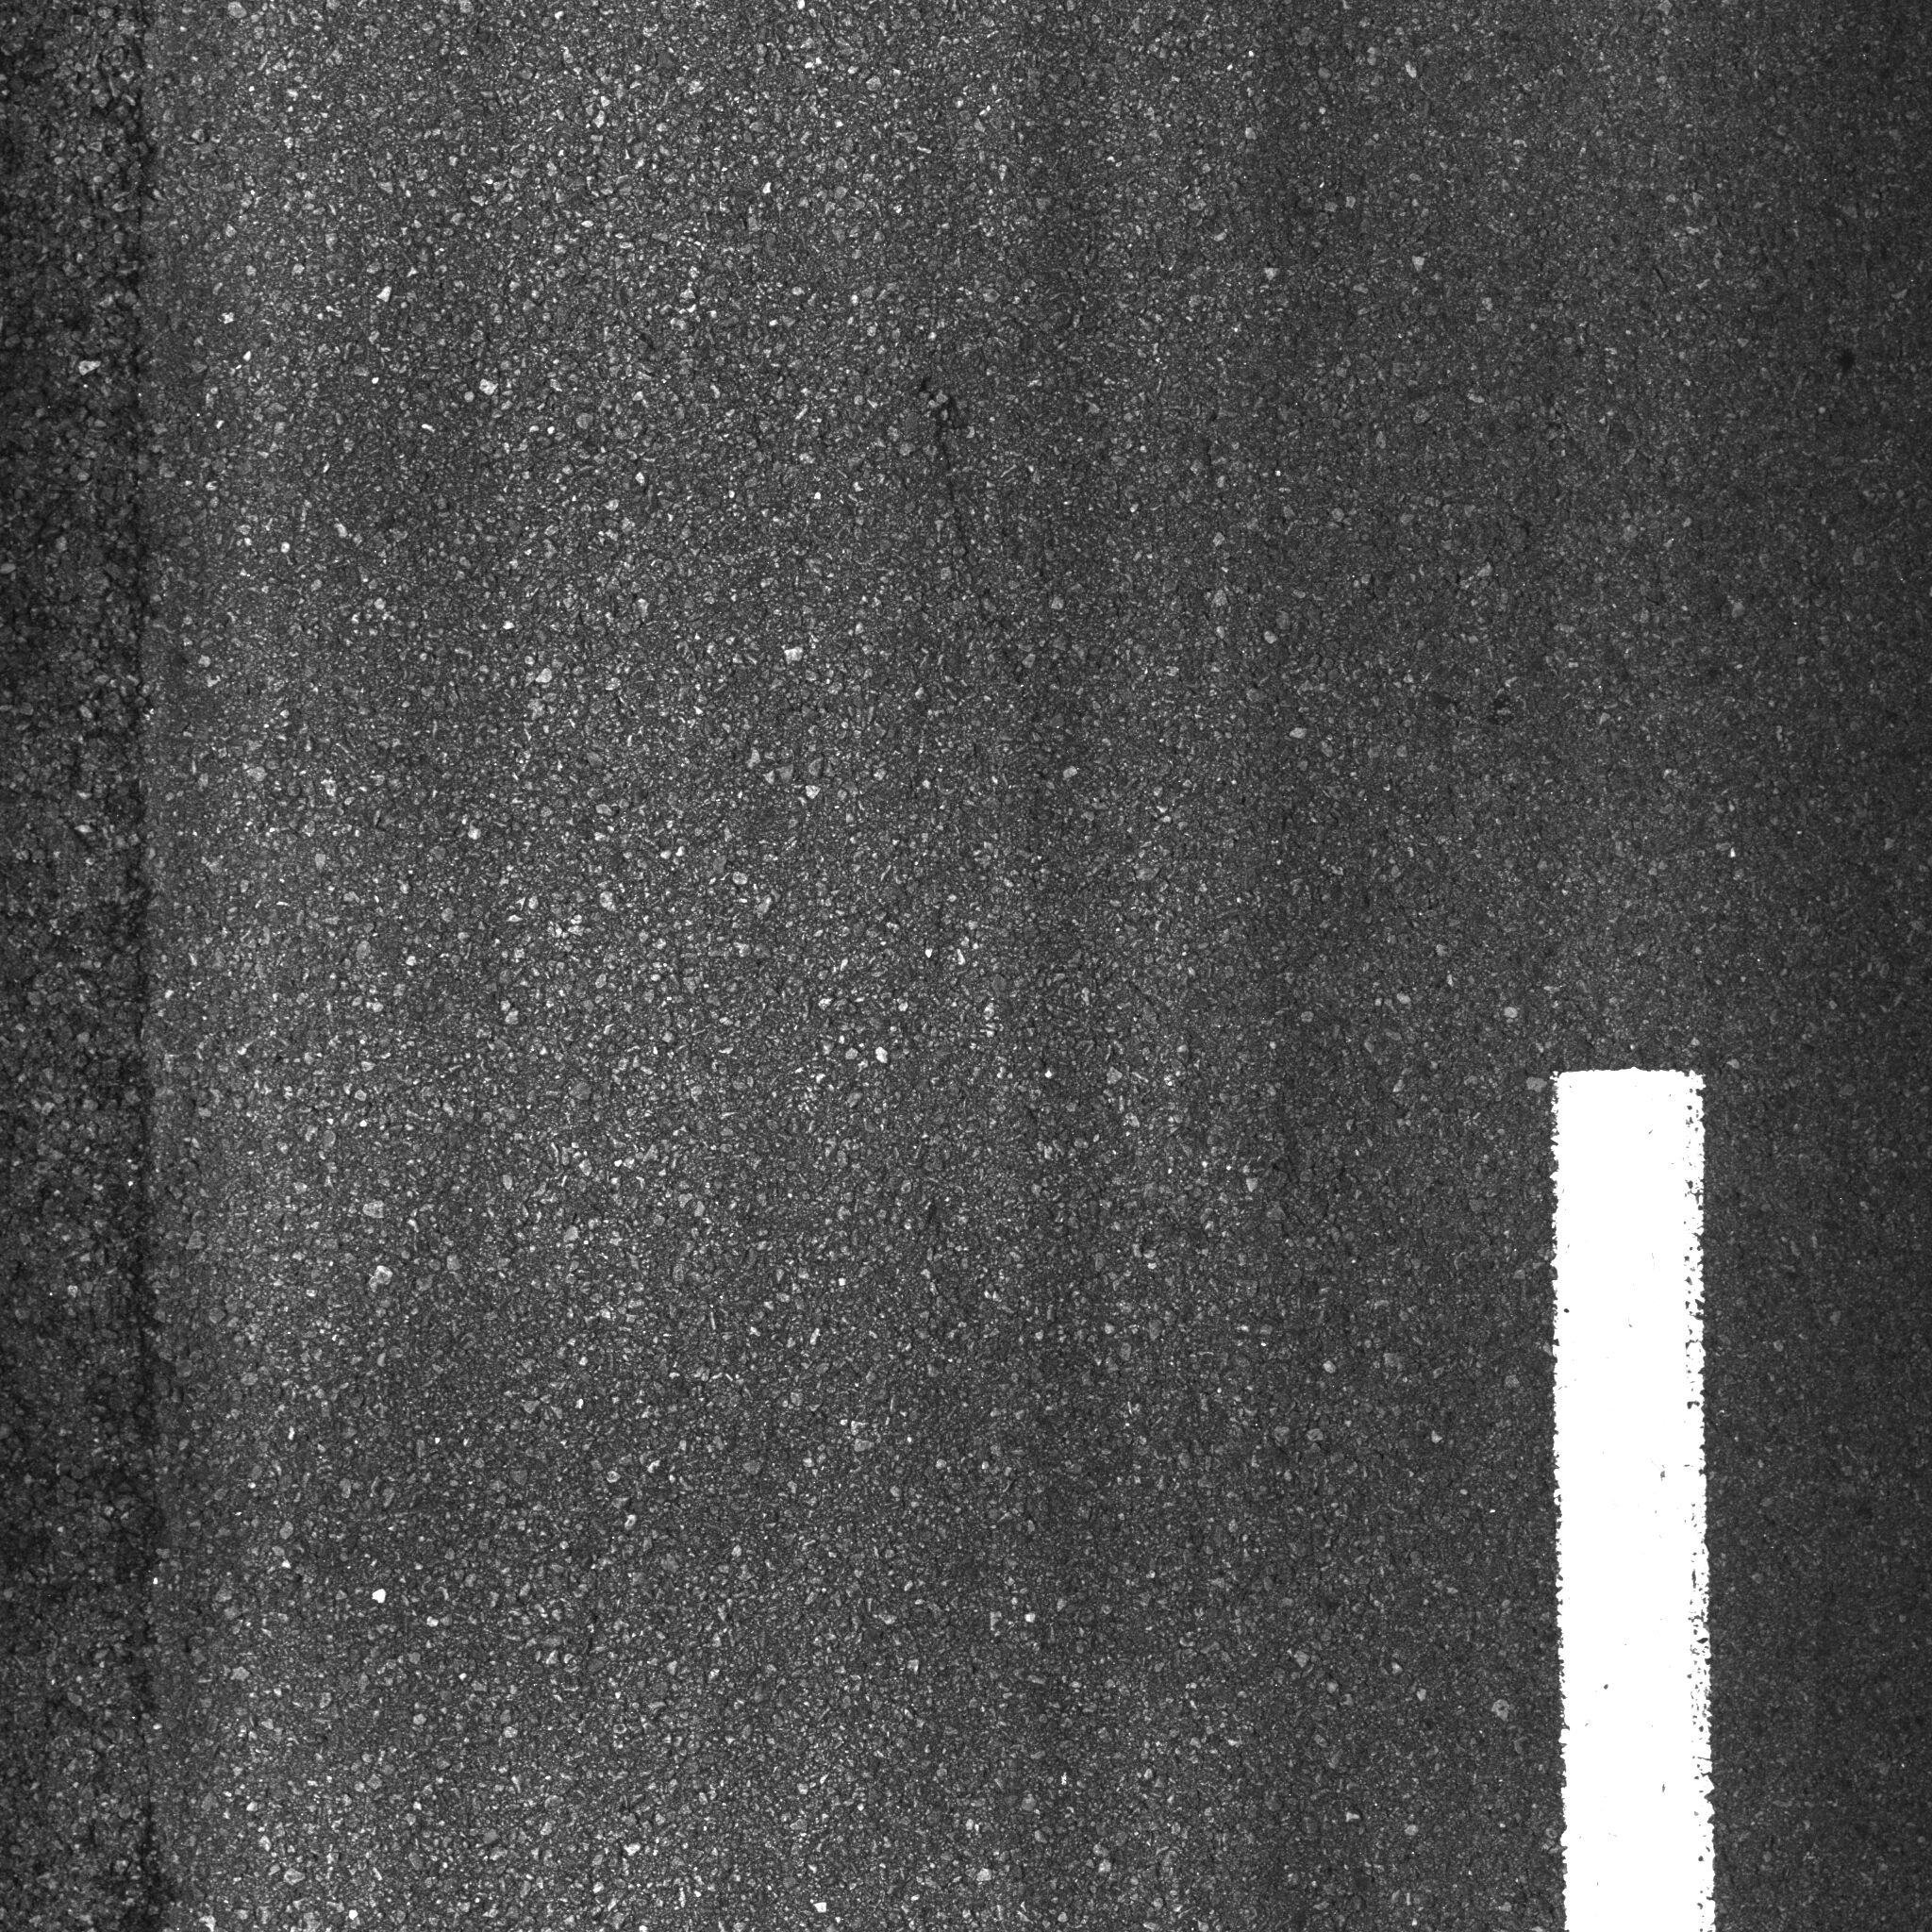longitudinal: (64, 9, 232, 1905)
